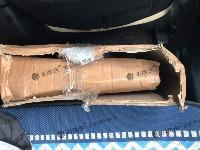damaged package: (6, 49, 181, 105)
undamaged: (0, 42, 187, 110)
